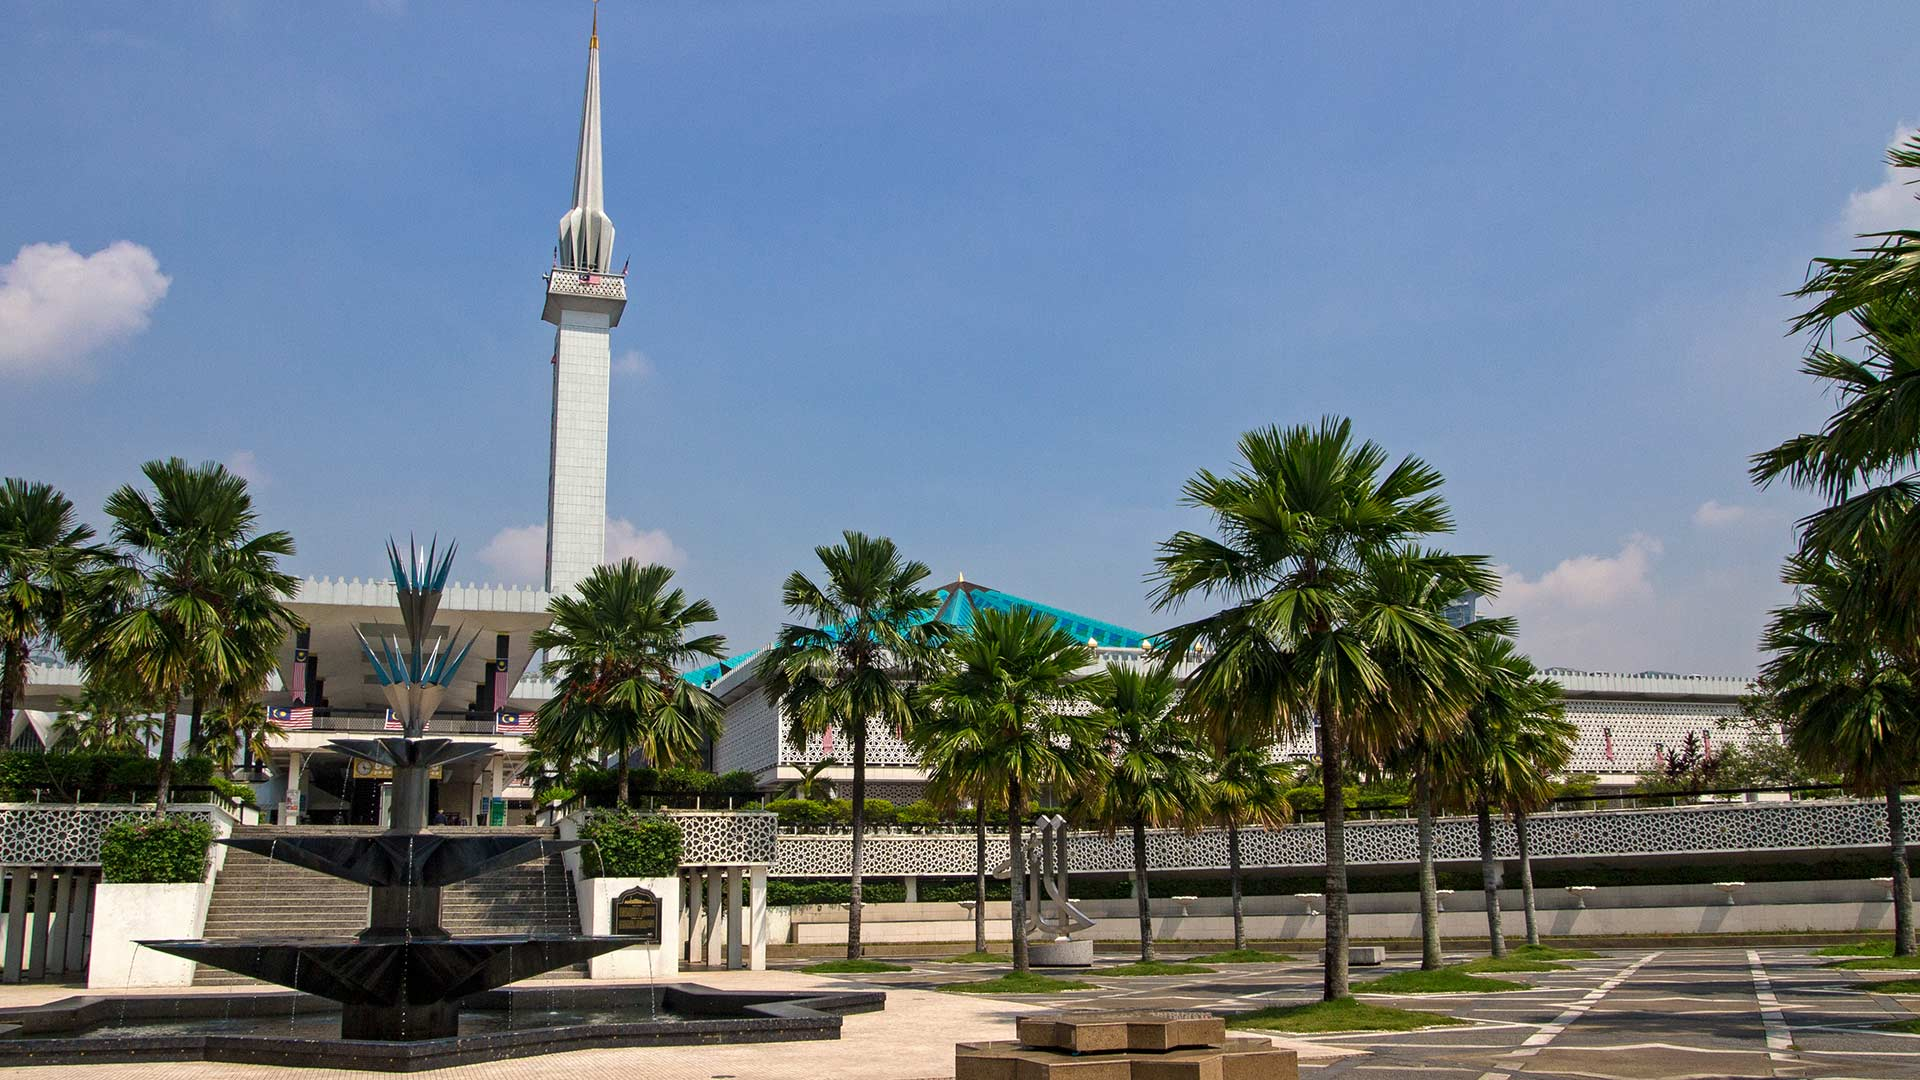Mosque: (524, 15, 622, 580)
